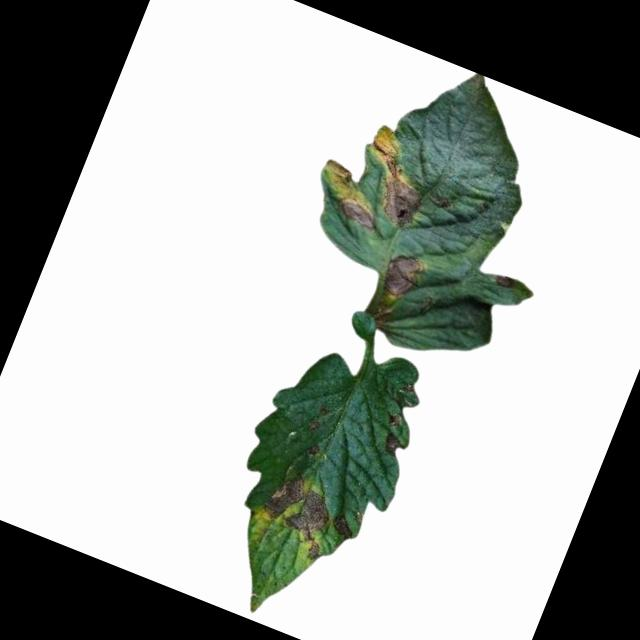Early_blight: (346, 120, 446, 232), (249, 465, 345, 563), (377, 247, 429, 303), (317, 156, 371, 201), (336, 193, 379, 229), (327, 509, 360, 543), (380, 430, 405, 458), (494, 270, 521, 292), (304, 415, 324, 435), (305, 440, 324, 459)
